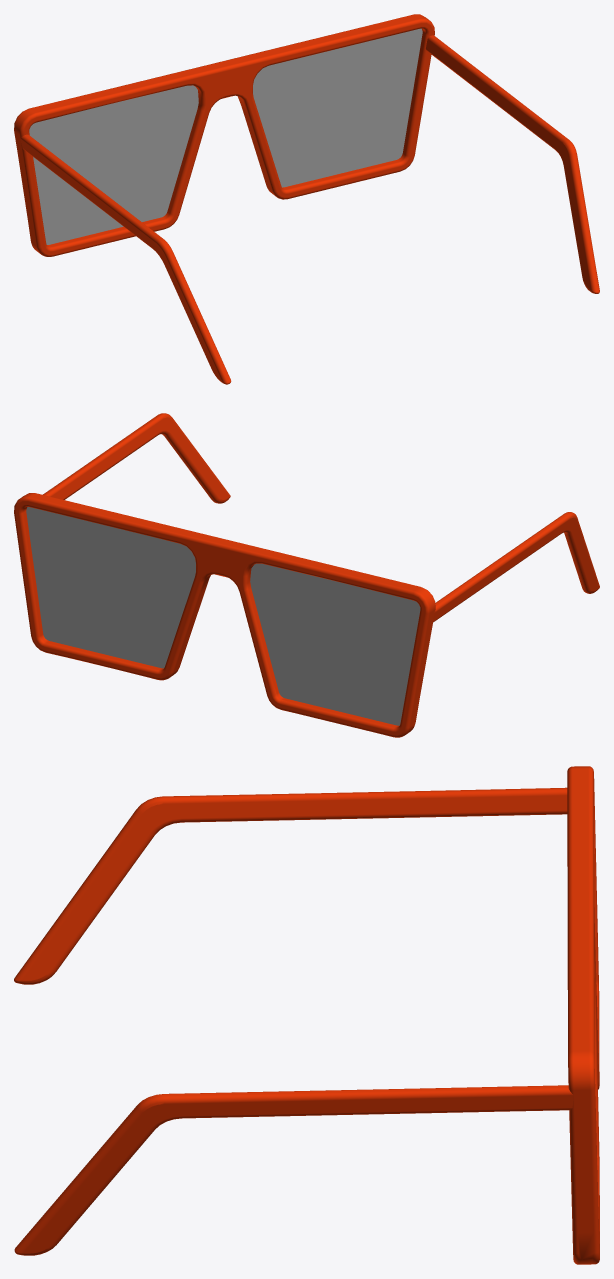
The picture shows the model from 3 angles, top to bottom: view 1: azimuth 30°, elevation 25°; view 2: azimuth 150°, elevation 25°; view 3: azimuth 270°, elevation 25°; orthographic projection. The views are drawn at different scales.
Parts seen in each view (by area): view 1: uploads_files_593613_gözlük:object_3, uploads_files_593613_gözlük:object_6, uploads_files_593613_gözlük:object_1, uploads_files_593613_gözlük:object_5, uploads_files_593613_gözlük:object_4; view 2: uploads_files_593613_gözlük:object_1, uploads_files_593613_gözlük:object_3, uploads_files_593613_gözlük:object_6, uploads_files_593613_gözlük:object_5, uploads_files_593613_gözlük:object_4; view 3: uploads_files_593613_gözlük:object_4, uploads_files_593613_gözlük:object_5, uploads_files_593613_gözlük:object_6.
Boxes of the visible parts, x1,y1,x2,y2 form: uploads_files_593613_gözlük:object_3: (253,28,422,187); uploads_files_593613_gözlük:object_6: (14,14,434,256); uploads_files_593613_gözlük:object_1: (29,85,198,244); uploads_files_593613_gözlük:object_5: (426,35,599,293); uploads_files_593613_gözlük:object_4: (20,134,231,384); uploads_files_593613_gözlük:object_1: (250,563,420,725); uploads_files_593613_gözlük:object_3: (26,507,195,668); uploads_files_593613_gözlük:object_6: (14,493,435,737); uploads_files_593613_gözlük:object_5: (43,413,230,503); uploads_files_593613_gözlük:object_4: (433,512,599,621); uploads_files_593613_gözlük:object_4: (14,787,567,984); uploads_files_593613_gözlük:object_5: (14,1085,573,1255); uploads_files_593613_gözlük:object_6: (567,766,599,1264).
Size of the model in its own units: 13.12 by 4.52 by 10.67.
